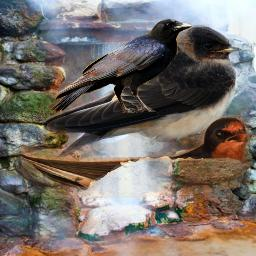Crow: (50, 17, 192, 113)
Swallow: (42, 24, 242, 161), (21, 115, 250, 198)
